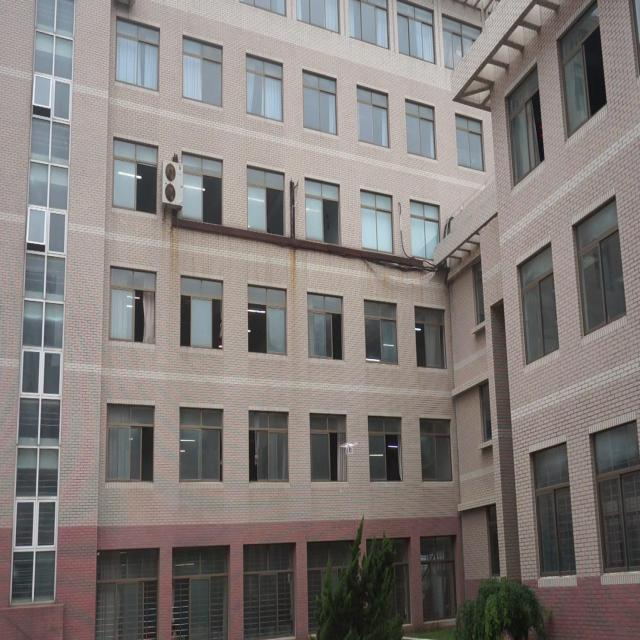drone: (341, 439, 358, 459)
